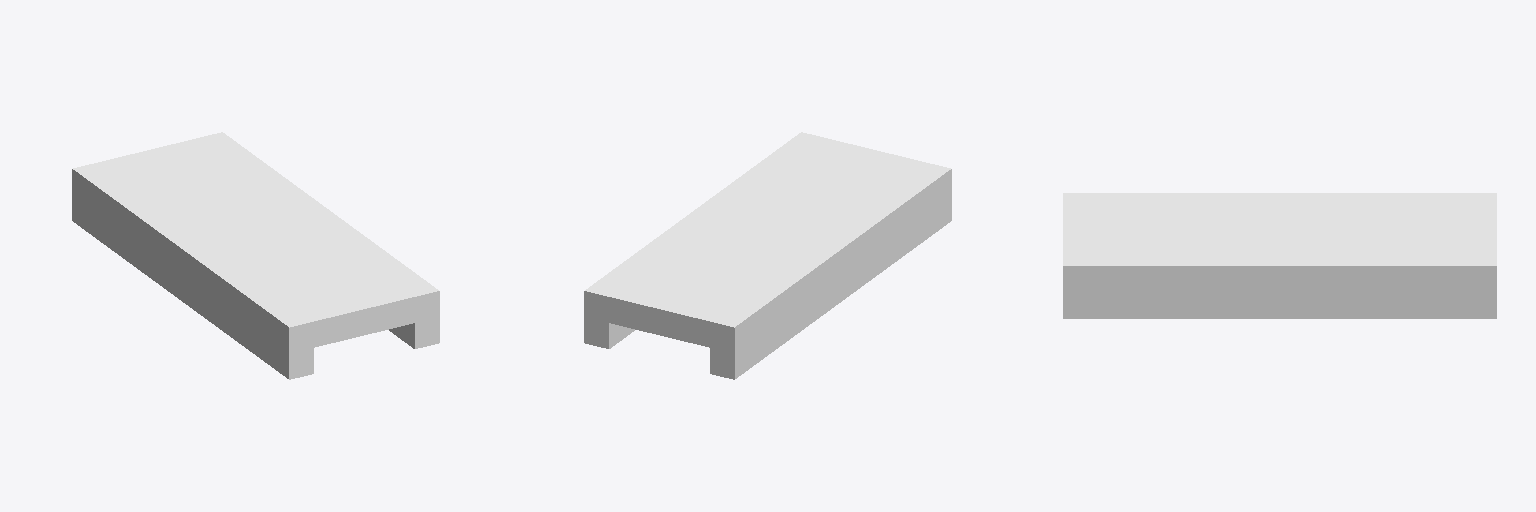
Rendered from Log.obj.
The picture shows the model from 3 angles: view 1: azimuth 30°, elevation 25°; view 2: azimuth 150°, elevation 25°; view 3: azimuth 270°, elevation 25°; orthographic projection.
Visible parts, largest first — view 1: object 1; view 2: object 1; view 3: object 1.
Boxes of the visible parts, x1,y1,x2,y2 form: object 1: [72, 132, 439, 379]; object 1: [584, 132, 951, 379]; object 1: [1063, 193, 1496, 318].
Size of the model in its own units: 0.6 by 0.2 by 1.5.